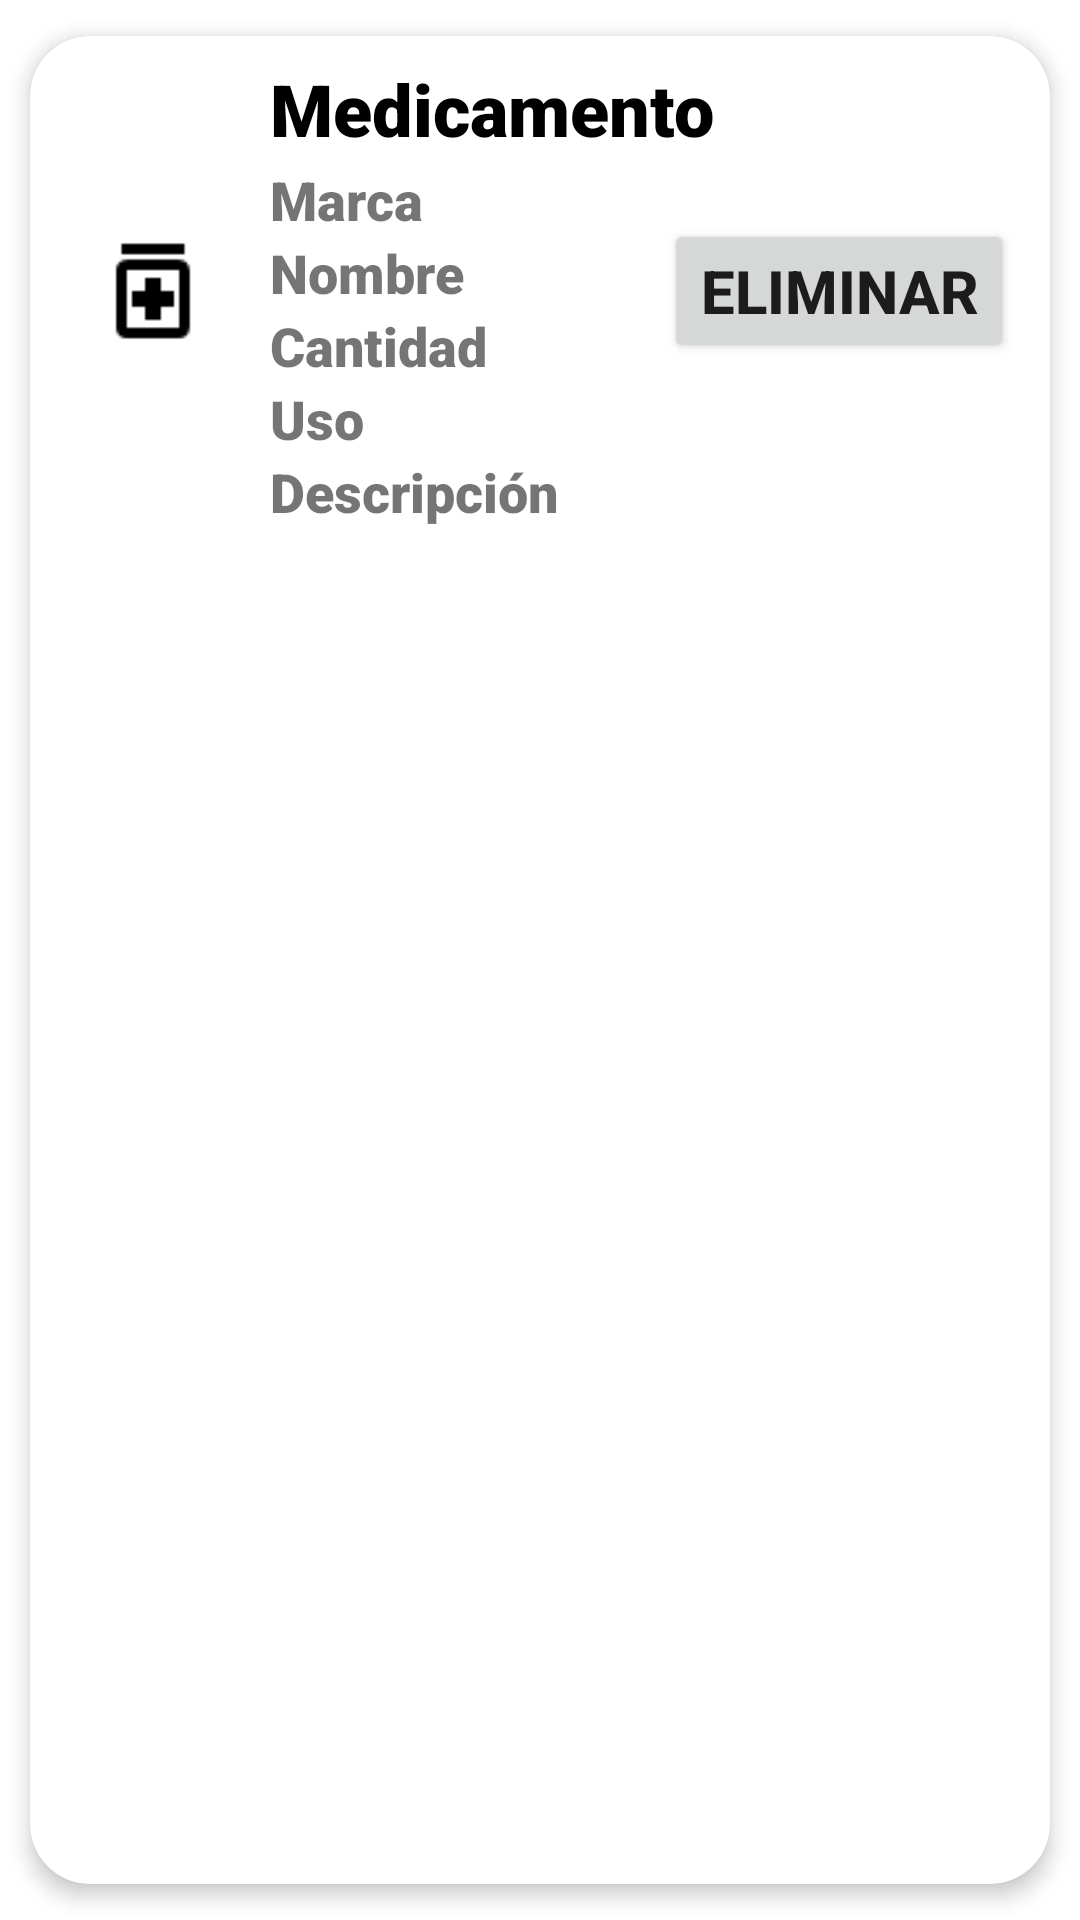

Screen size 1080*1920. Icon name, then its center in pixels as (x=x, y=y):
medication: (x=153, y=291)
